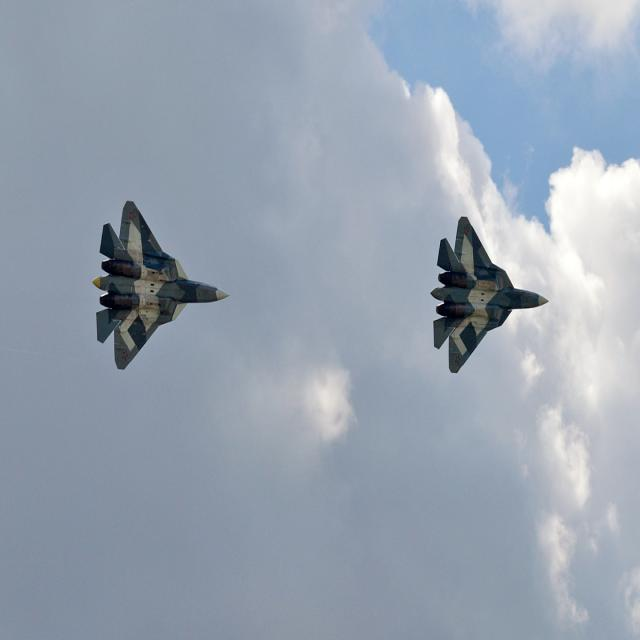MIL_Plane: (92, 200, 231, 370), (430, 216, 549, 374)
